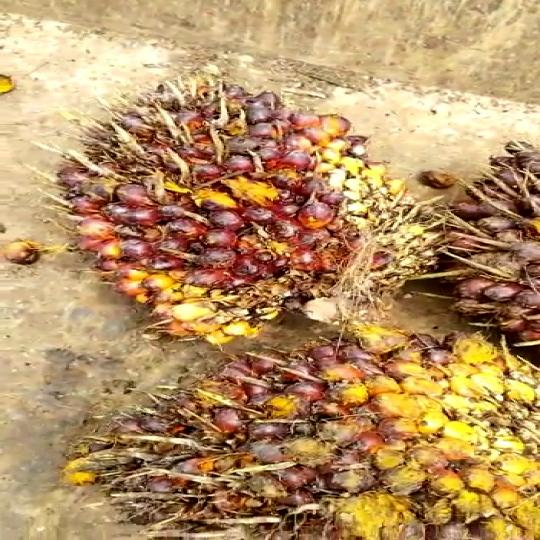masak: (58, 318, 540, 540), (50, 93, 419, 303)
